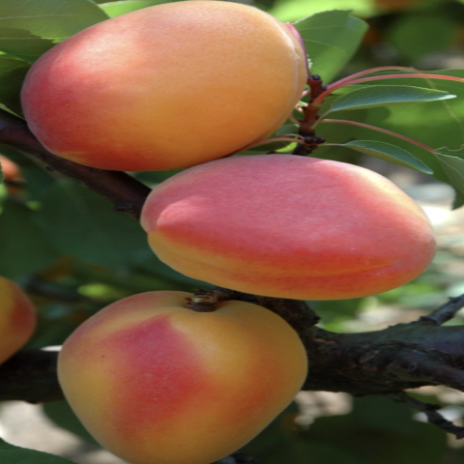mango: (3, 1, 326, 175), (37, 272, 328, 459), (137, 137, 438, 312)
